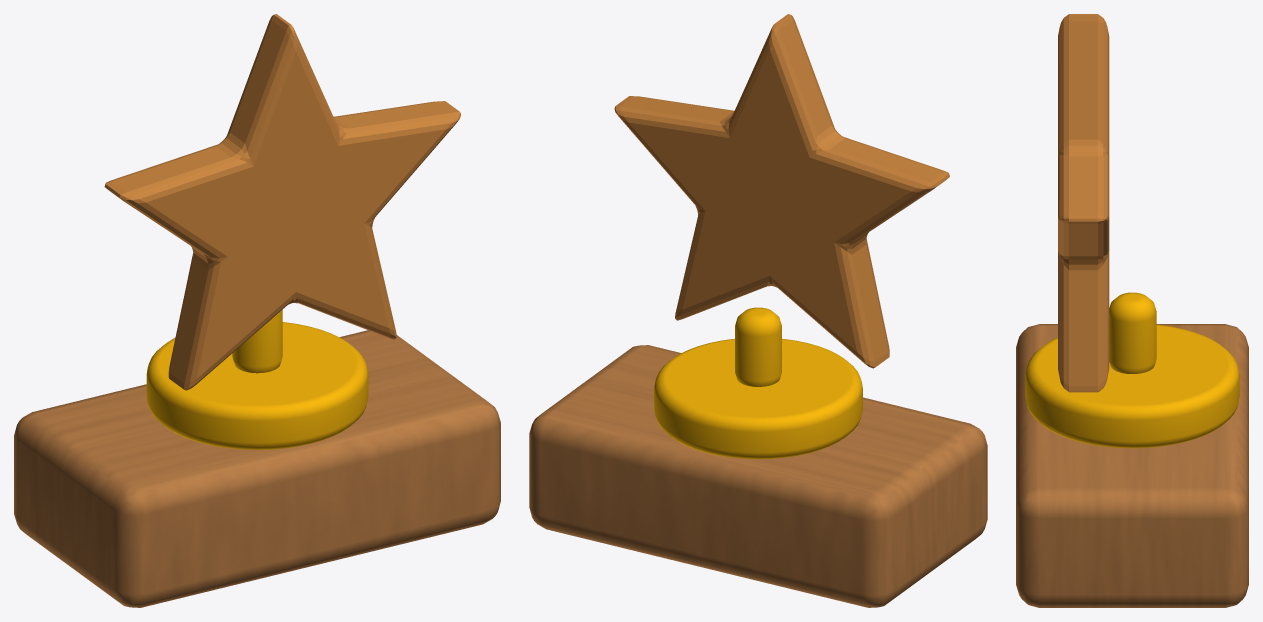
Rendered from display-bronze.glb.
3 renders of one model, left to right at view 1: azimuth 30°, elevation 25°; view 2: azimuth 150°, elevation 25°; view 3: azimuth 270°, elevation 25°, orthographic. The views are drawn at different scales.
Visible parts, largest first — view 1: Wooden award plinth.004, Star.001, Star foot.001, Star support.001; view 2: Wooden award plinth.004, Star.001, Star foot.001, Star support.001; view 3: Wooden award plinth.004, Star.001, Star foot.001, Star support.001.
Boxes of the visible parts, box(x1,y1,x2,y2) form: Wooden award plinth.004: box(14, 330, 500, 607); Star.001: box(104, 14, 460, 390); Star foot.001: box(146, 322, 368, 449); Star support.001: box(232, 310, 282, 373); Wooden award plinth.004: box(529, 345, 987, 607); Star.001: box(614, 14, 949, 368); Star foot.001: box(654, 338, 862, 459); Star support.001: box(735, 307, 781, 386); Wooden award plinth.004: box(1016, 324, 1248, 607); Star.001: box(1058, 14, 1109, 392); Star foot.001: box(1025, 324, 1239, 448); Star support.001: box(1109, 292, 1156, 373).
Size of the model in its own units: 0.46 by 0.6046 by 0.25.
3 materials, 1 textured.
